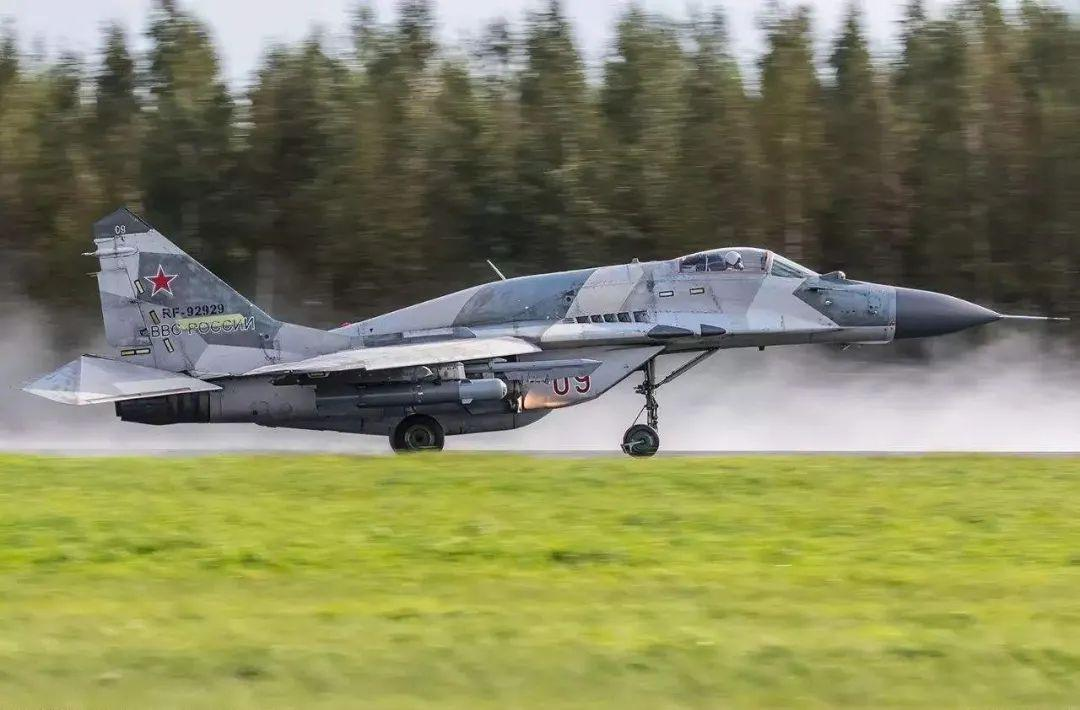airplane: (14, 205, 1063, 453)
